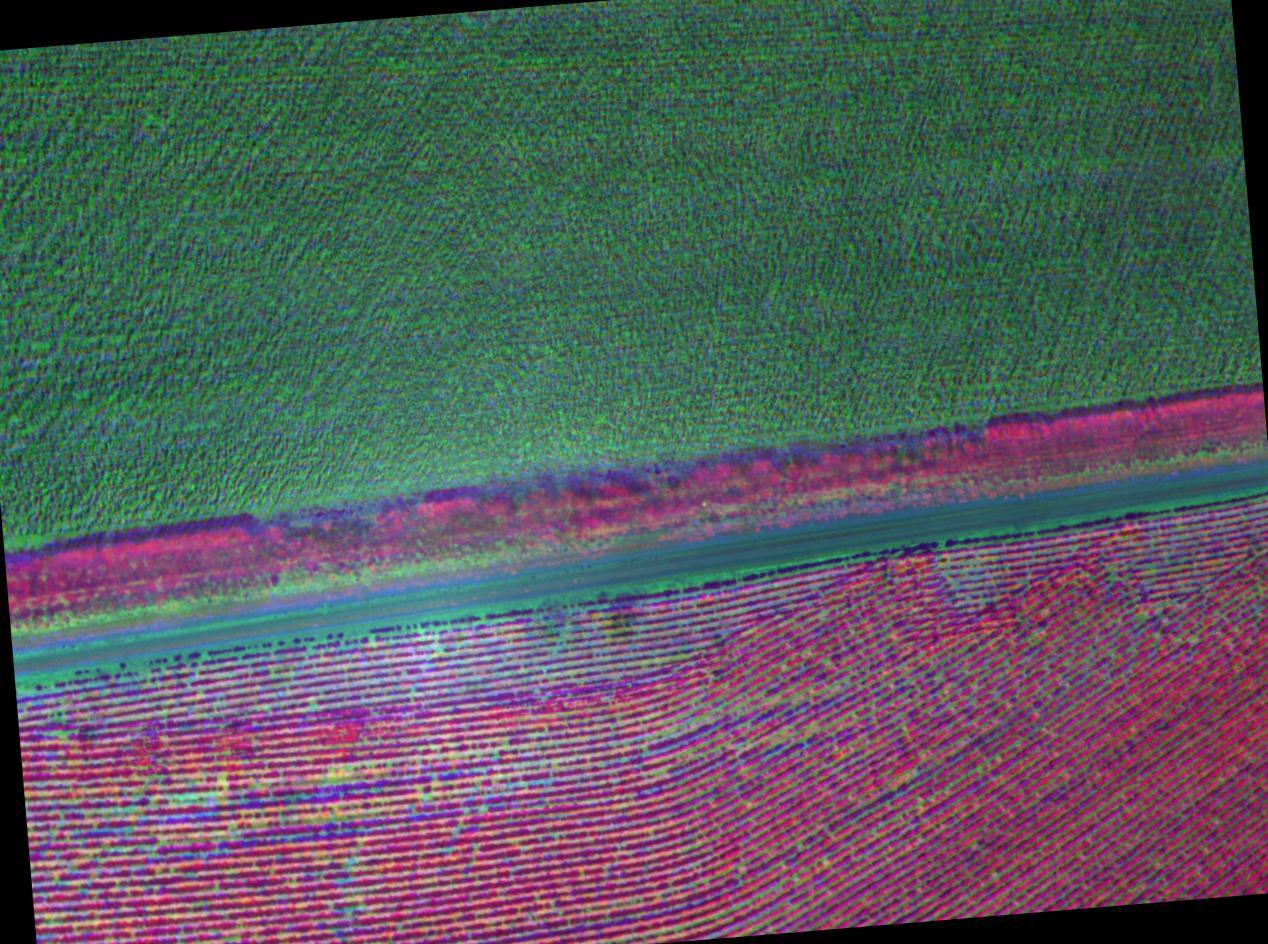dc: (296, 737, 429, 808), (586, 575, 668, 664), (144, 765, 256, 826)
